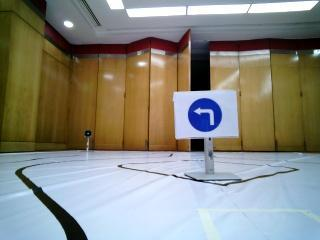left: (177, 93, 236, 136)
